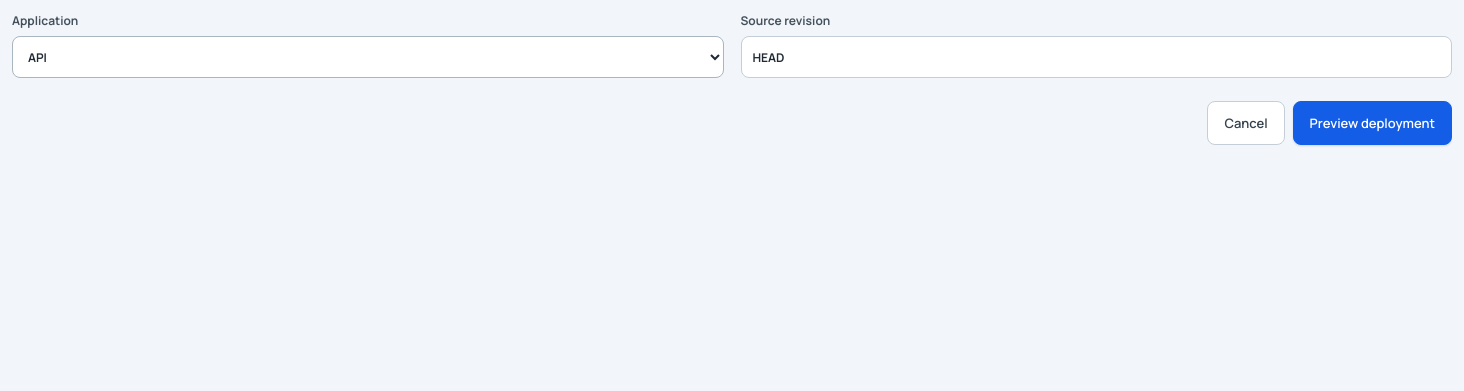
never starts a rollout after a failed preflight
The width and height of the screenshot is (1464, 391).
Step 1. Click the button "Preview deployment" → (1372, 123), box [1293,101,1452,145]
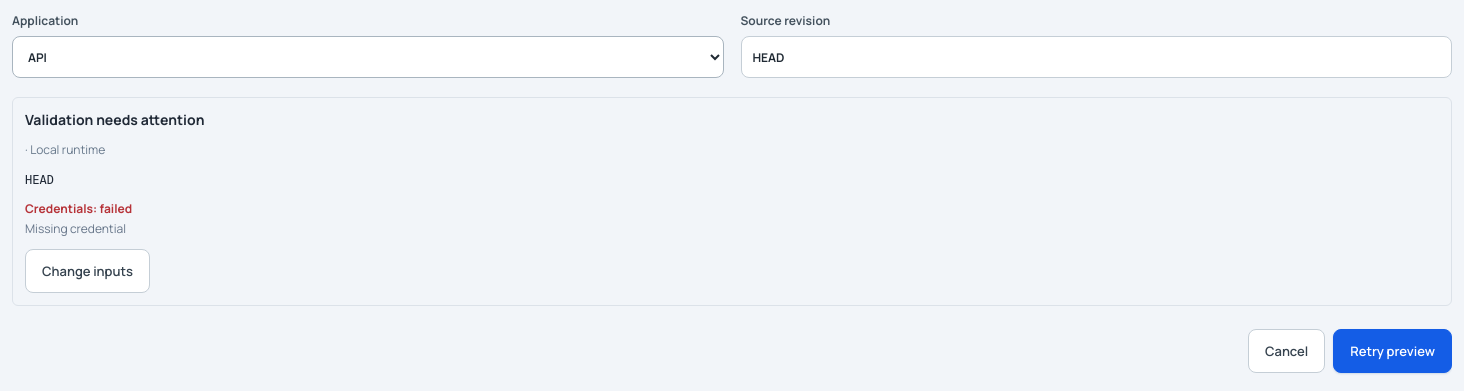
Result: the text "Missing credential" is shown at [25,220,126,237]
